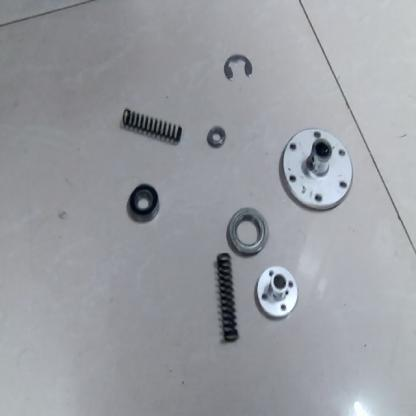FOD: (278, 124, 355, 214), (254, 264, 302, 325), (224, 202, 271, 260), (215, 251, 242, 343), (120, 112, 186, 145), (123, 180, 163, 229), (221, 50, 254, 85), (204, 125, 228, 148)
